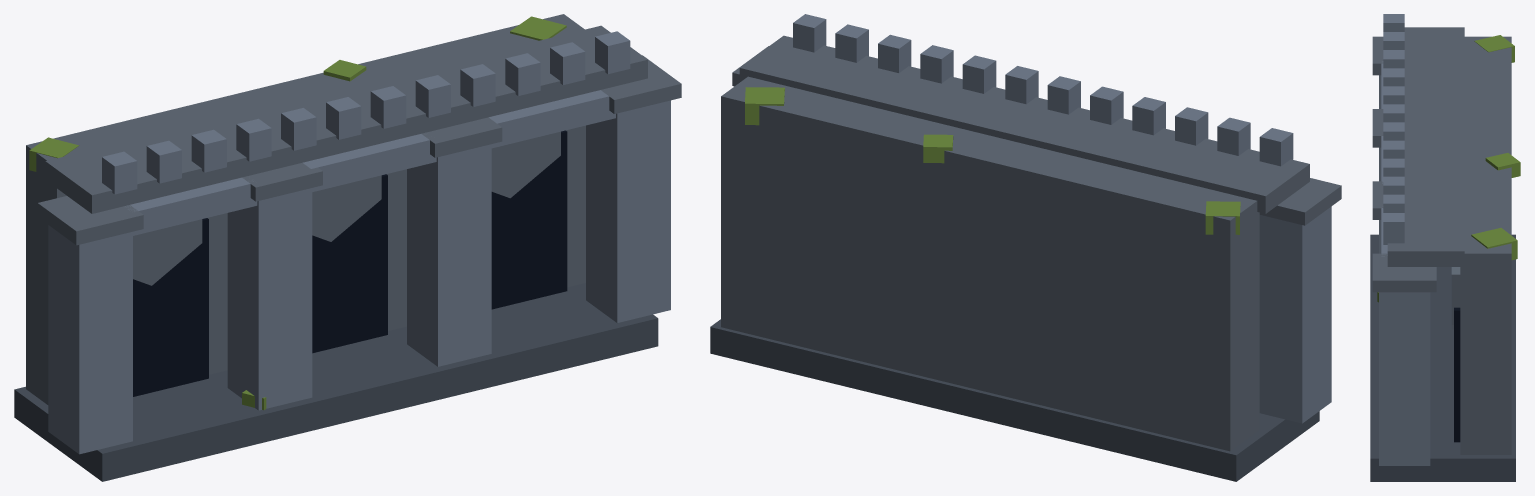
Rendered from bld_grotto.glb.
3 renders of one model, left to right at view 1: azimuth 30°, elevation 25°; view 2: azimuth 150°, elevation 25°; view 3: azimuth 270°, elevation 25°, orthographic. The views are drawn at different scales.
Visible parts, largest first — view 1: bld_grotto; view 2: bld_grotto; view 3: bld_grotto.
Part boxes in pixels (left/top/right/bottom): bld_grotto: left=14, top=14, right=681, bottom=481; bld_grotto: left=710, top=14, right=1341, bottom=481; bld_grotto: left=1370, top=14, right=1520, bottom=481.
Size of the model in its own units: 13.5 by 6.5 by 3.51.
1 material, 1 textured.
